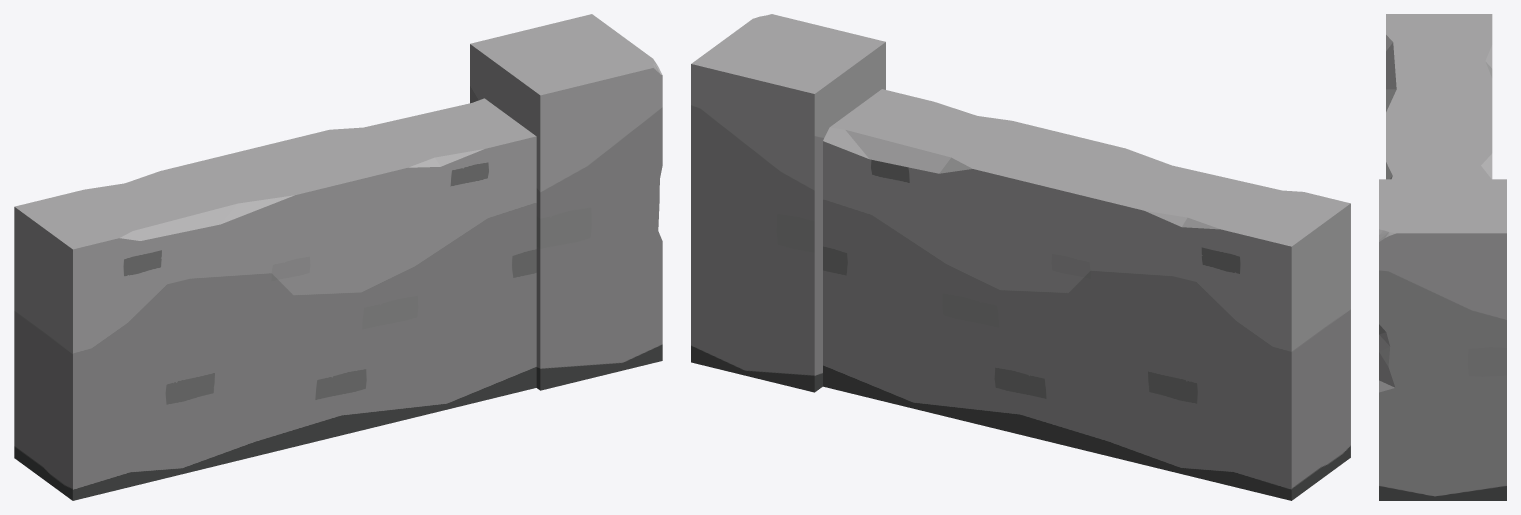
The model's file is Wh_Brick_Fence_End.fbx.
The picture shows the model from 3 angles, left to right: view 1: azimuth 30°, elevation 25°; view 2: azimuth 150°, elevation 25°; view 3: azimuth 270°, elevation 25°; orthographic projection. The views are drawn at different scales.
Visible parts, largest first — view 1: Cube.026; view 2: Cube.026; view 3: Cube.026.
Boxes of the visible parts, x1,y1,x2,y2 form: Cube.026: [14, 14, 662, 500]; Cube.026: [691, 14, 1350, 500]; Cube.026: [1379, 14, 1506, 500].
Size of the model in its own units: 305 by 147 by 63.56.
